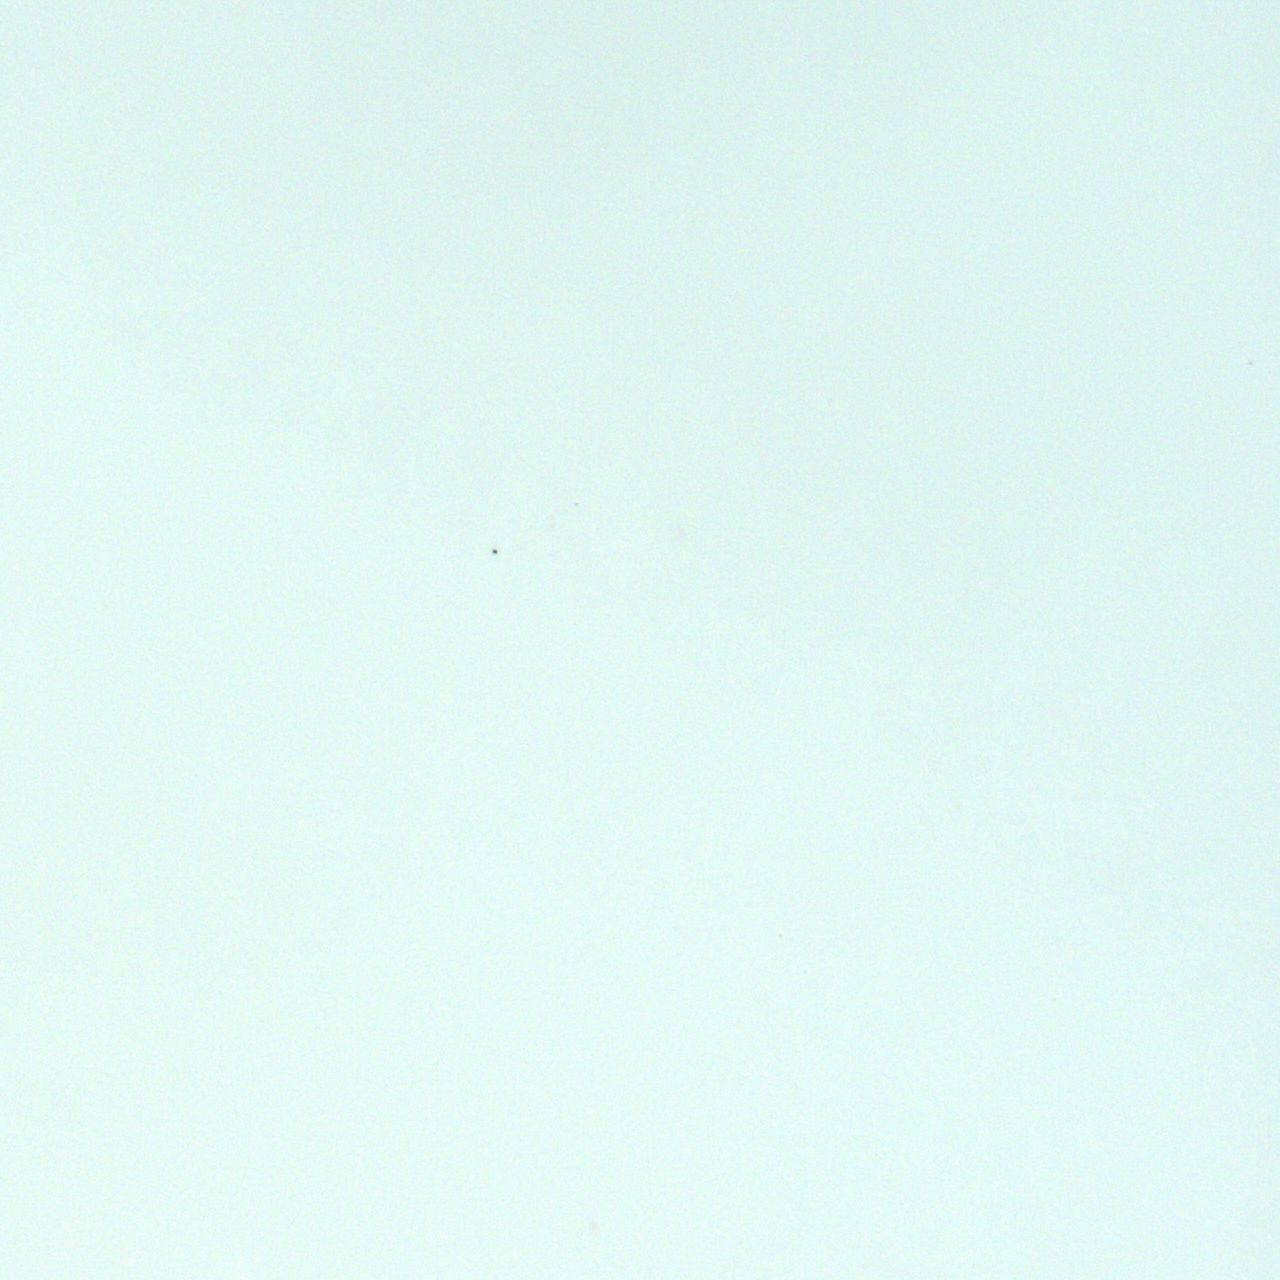dust: (491, 549, 497, 554)
